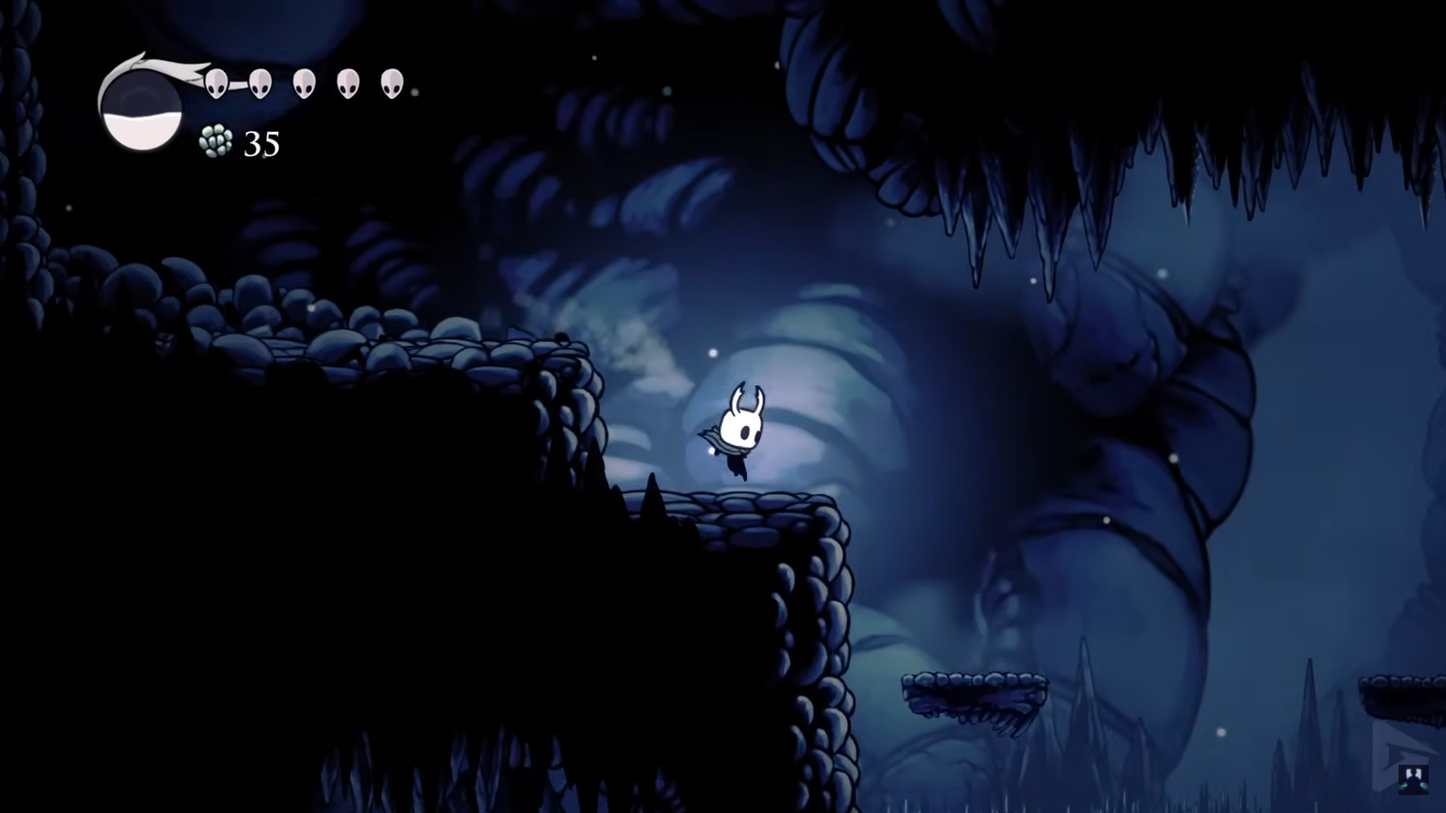HK: (709, 379, 769, 485)
